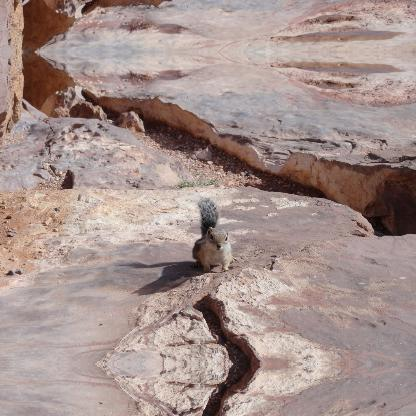Squirrel: (190, 198, 250, 272)
